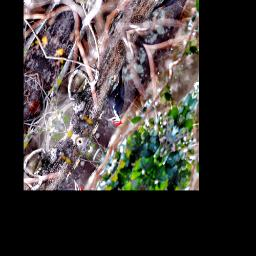Woodpecker: (96, 65, 147, 132)
